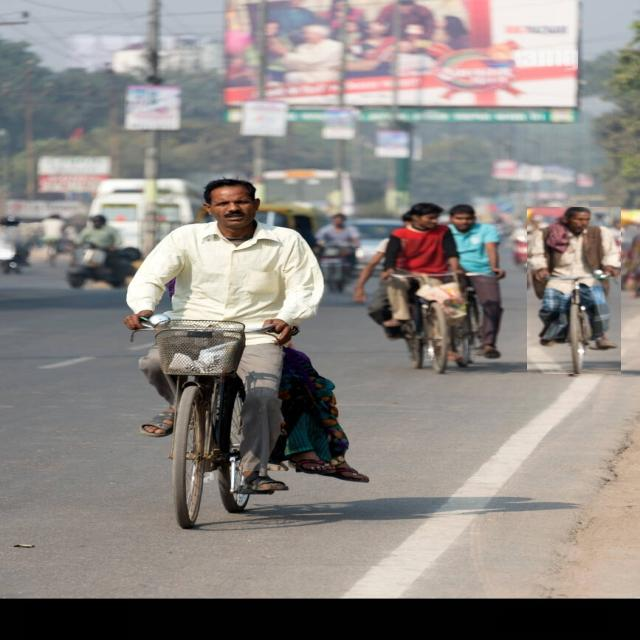bicycle: (124, 179, 369, 528), (527, 207, 621, 374)
